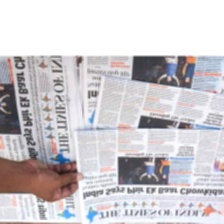news_paper: (71, 127, 224, 223), (0, 51, 79, 224), (78, 55, 224, 133), (89, 71, 224, 135)
